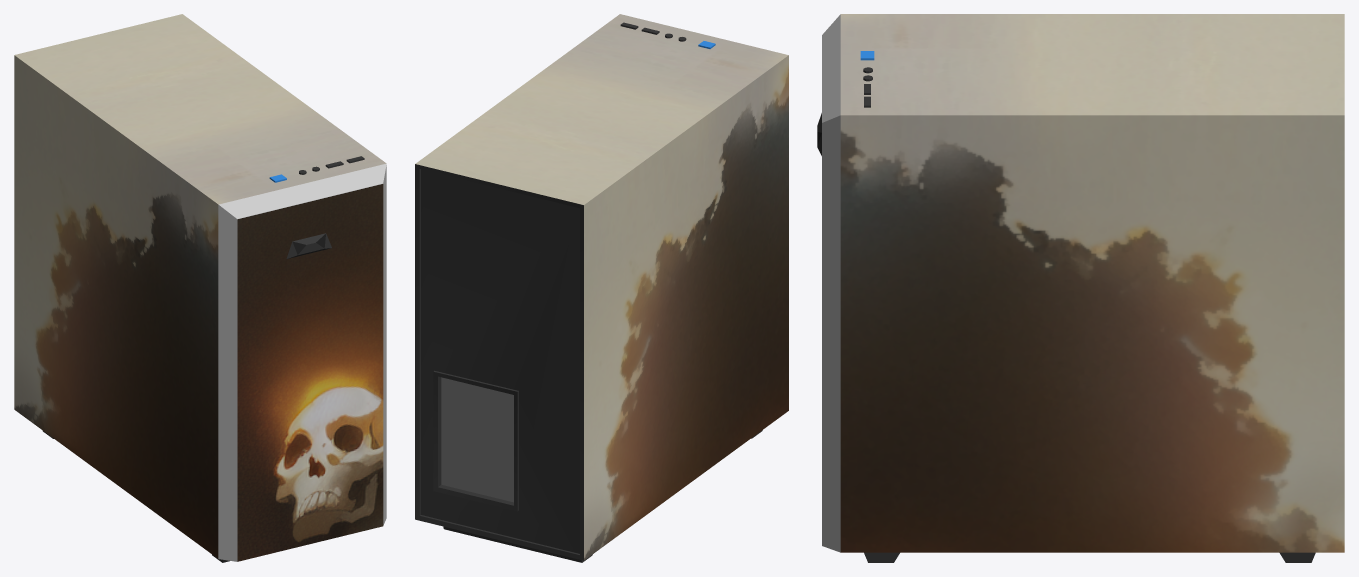
File: computer_6.glb
3 views of the same model, side by side, from view 1: azimuth 30°, elevation 25°; view 2: azimuth 150°, elevation 25°; view 3: azimuth 270°, elevation 25° (orthographic). The views are drawn at different scales.
Parts seen in each view (by area): view 1: PC Case 3; view 2: PC Case 3; view 3: PC Case 3.
Boxes of the visible parts, box(x1,y1,x2,y2) form: PC Case 3: box(14, 14, 386, 562); PC Case 3: box(415, 14, 788, 562); PC Case 3: box(817, 14, 1344, 562).
Bounding box in the file's own units: 0.227 × 0.4792 × 0.4995.
2 materials, 2 textured.
